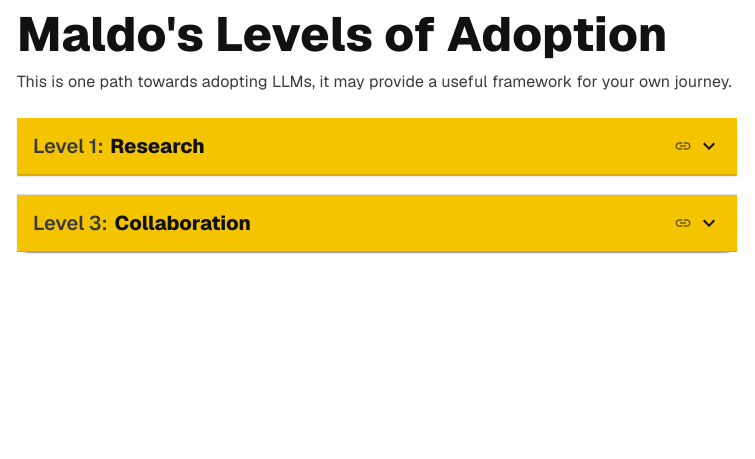
<JourneyView /> › defaults to all phases collapsed and allows expanding a phase
Click the button "Level 1: Research" at (71, 146), box 17,118 -> 737,175
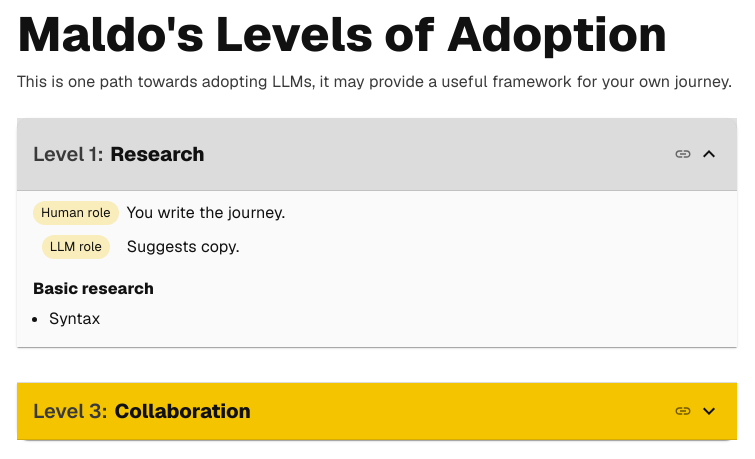
expect the button "Level 1: Research" is expanded: met, box 17,118 -> 737,191
